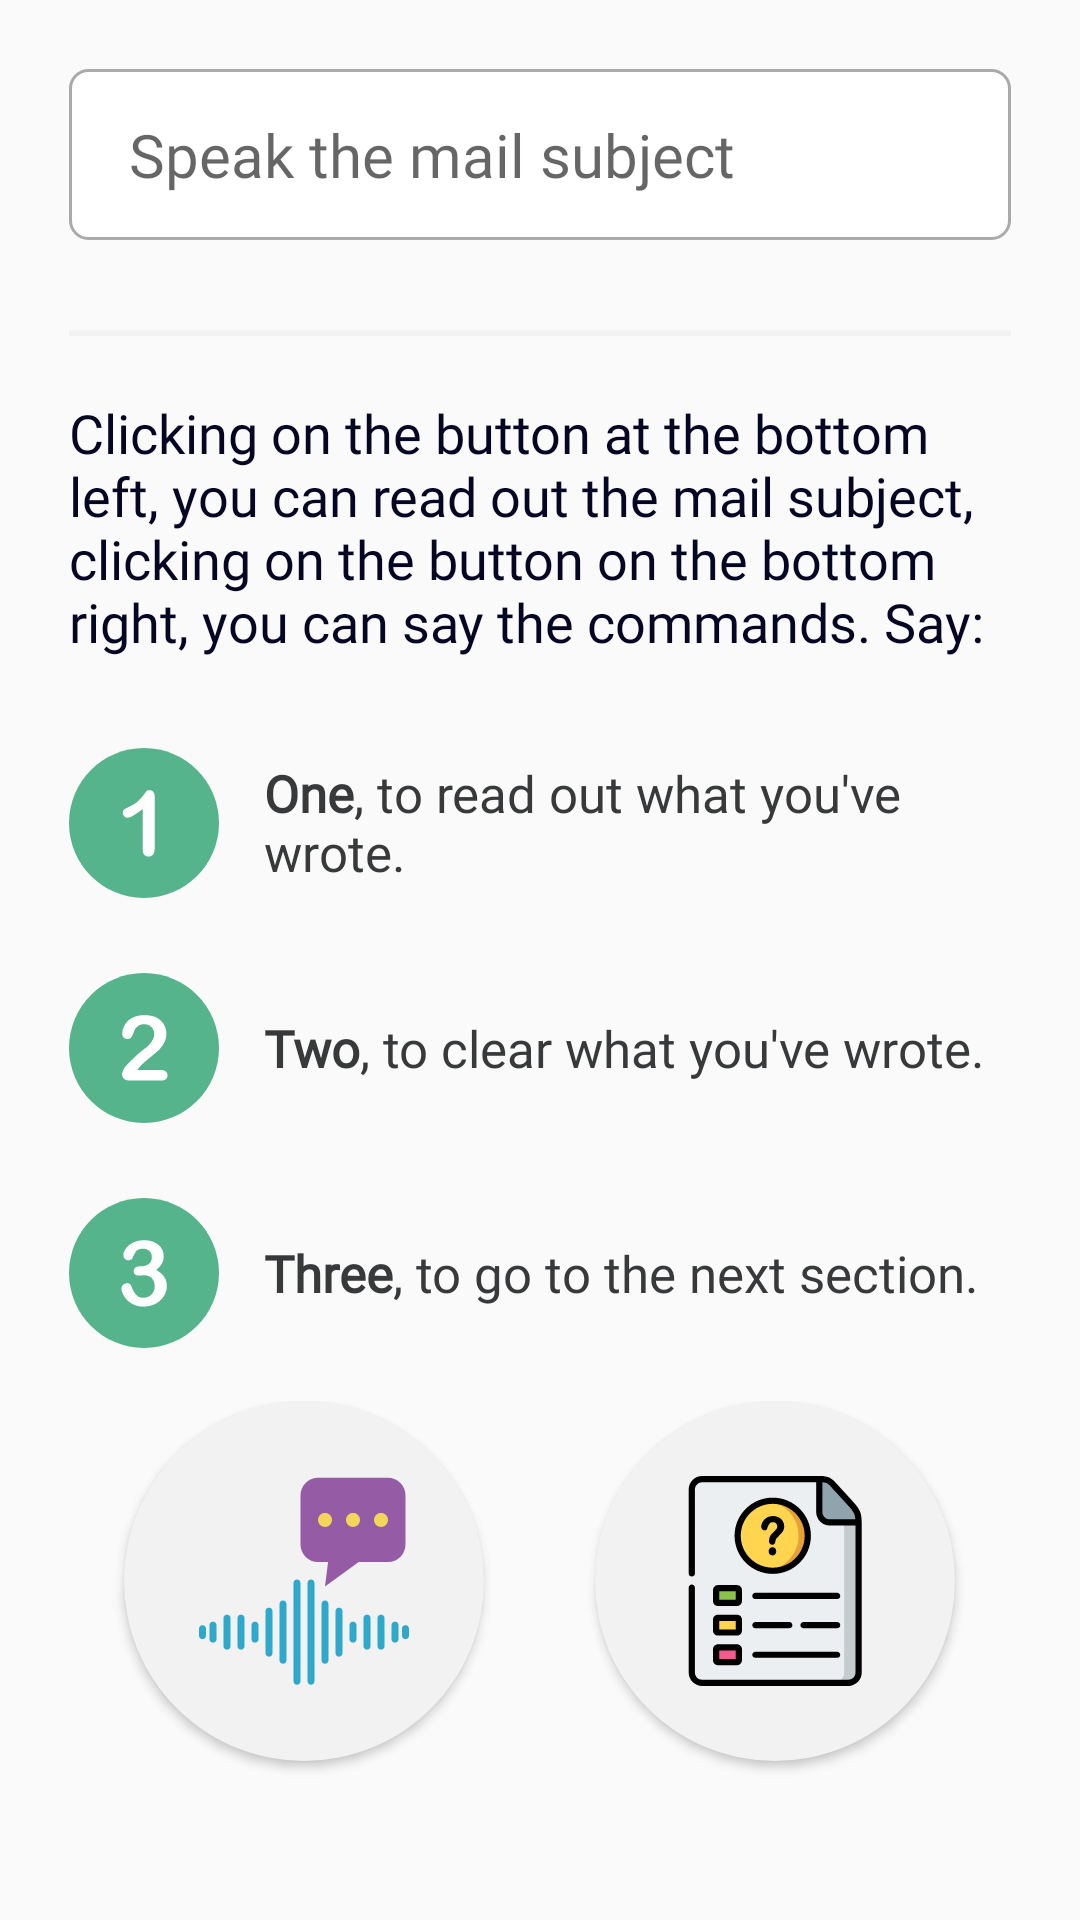

Locate icon controls on the screen. Image size 1080 x 1920, boxes as (x1, y1, x2, y2).
instruction: (601, 1476, 955, 1761)
record: (124, 1477, 478, 1761)
